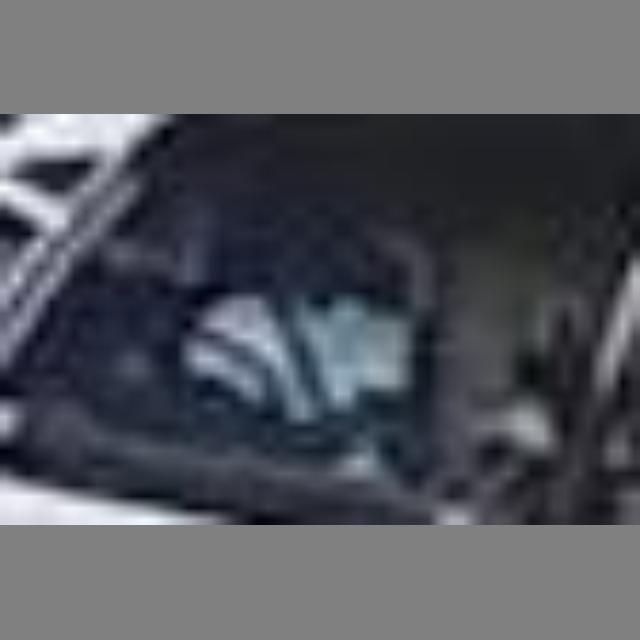pakai: (149, 217, 469, 468)
